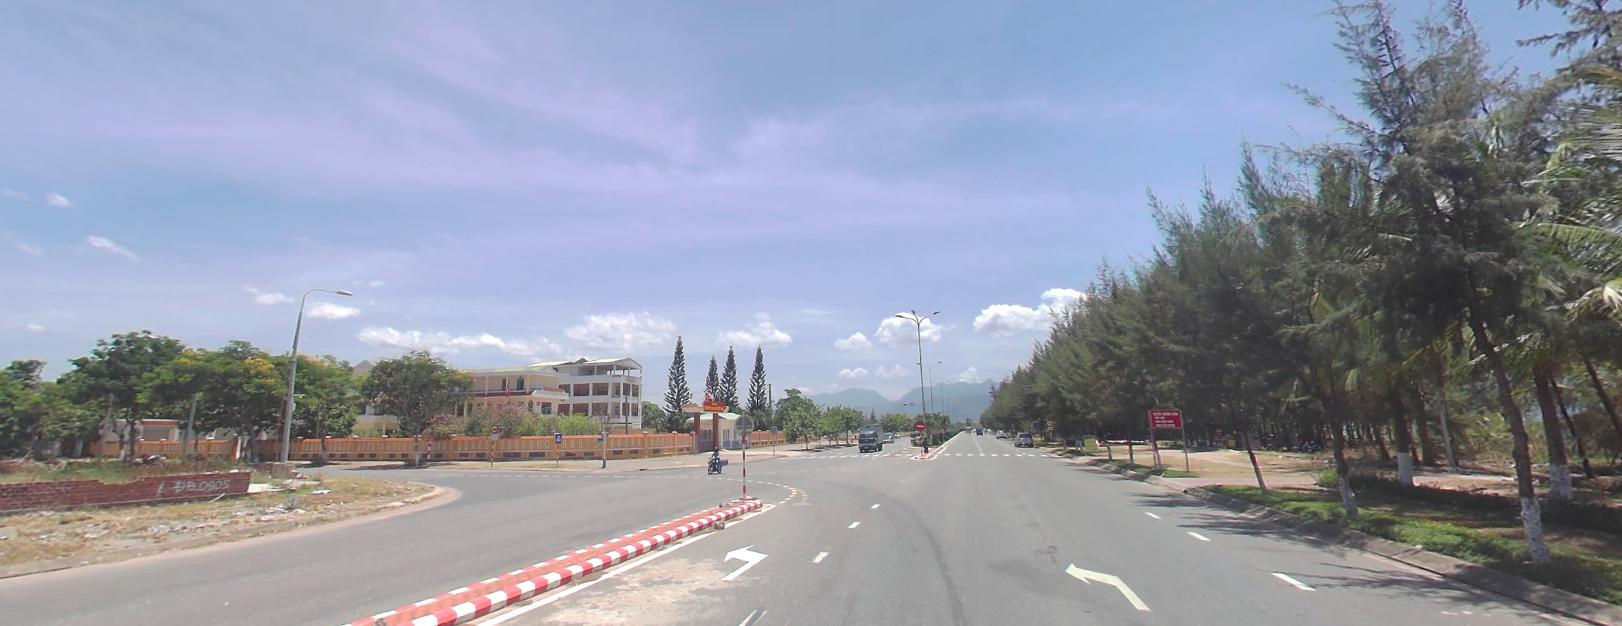Cam con lai: (490, 423, 497, 433), (1046, 418, 1053, 424)
Cam nguoc chieu: (915, 419, 925, 428)
